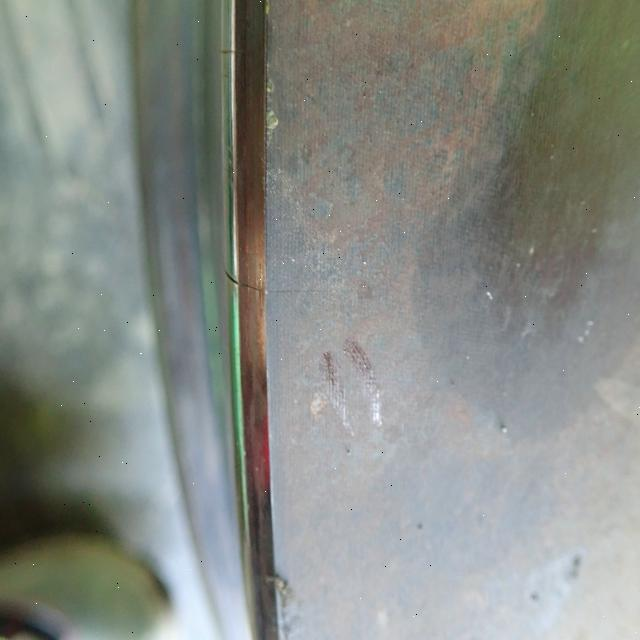hot crack: (208, 258, 332, 300)
